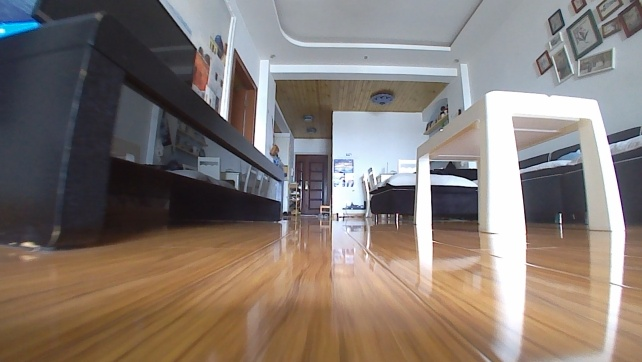TV_stand: (0, 2, 287, 252)
door_anno: (293, 153, 331, 218)
sofa: (367, 121, 641, 226)
